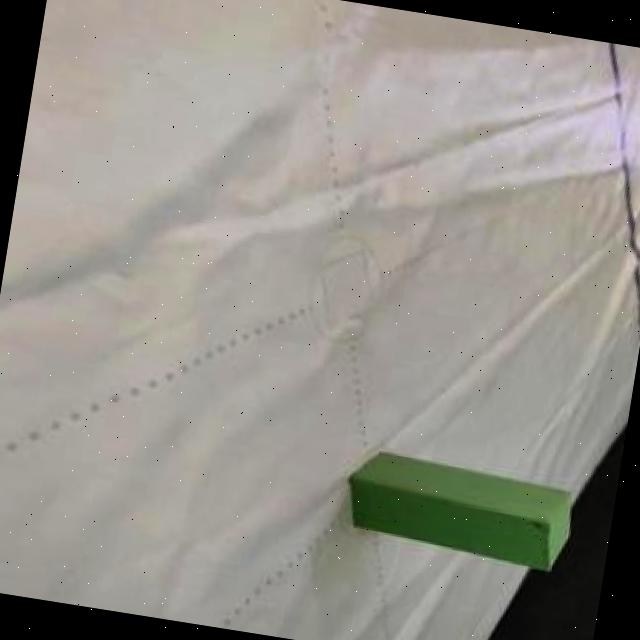greenbox: (340, 450, 582, 576)
